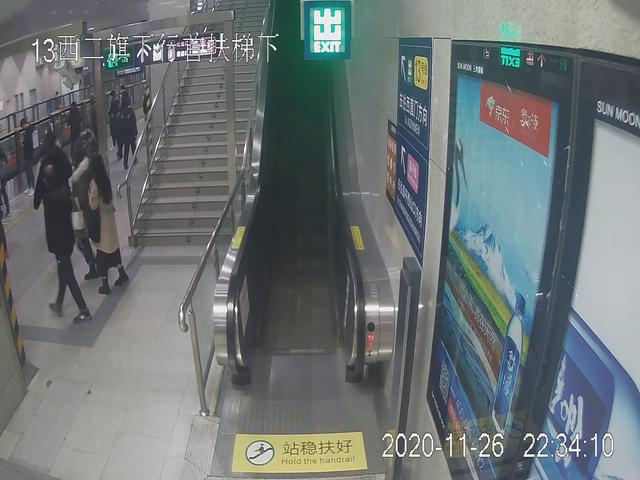person: (31, 165, 87, 322), (82, 149, 135, 291)
